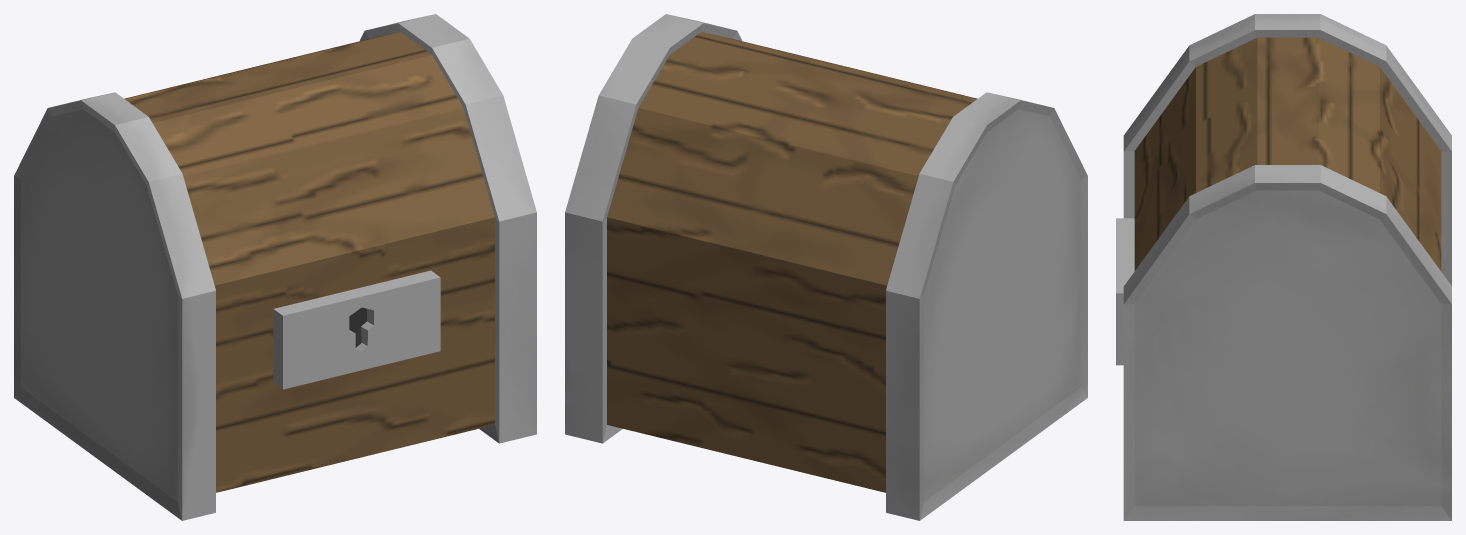
Rendered from Chest.glb.
3 views of the same model, side by side, from view 1: azimuth 30°, elevation 25°; view 2: azimuth 150°, elevation 25°; view 3: azimuth 270°, elevation 25° (orthographic). The views are drawn at different scales.
Parts seen in each view (by area): view 1: Cube.001; view 2: Cube.001; view 3: Cube.001.
Part boxes in pixels (x1,y1,x2,y2): Cube.001: [14, 14, 536, 520]; Cube.001: [565, 14, 1087, 520]; Cube.001: [1116, 14, 1451, 520].
Bounding box in the file's own units: 0.7025 × 0.6558 × 0.5905.
1 material, 1 textured.
